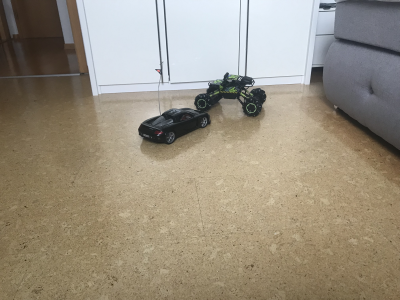remote control car: (194, 69, 268, 117)
